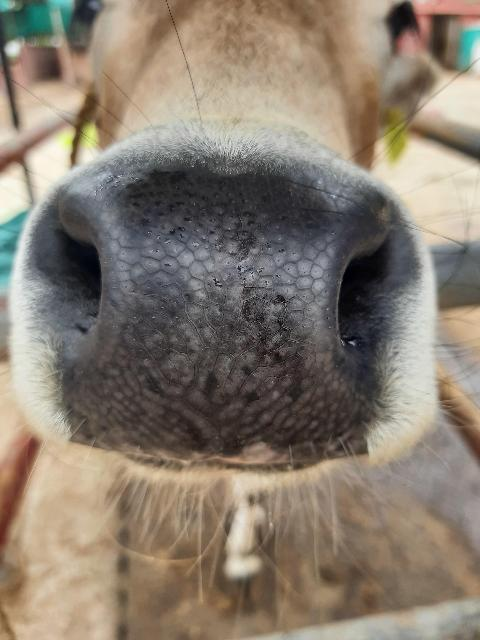Muzzle: (88, 176, 341, 448)
